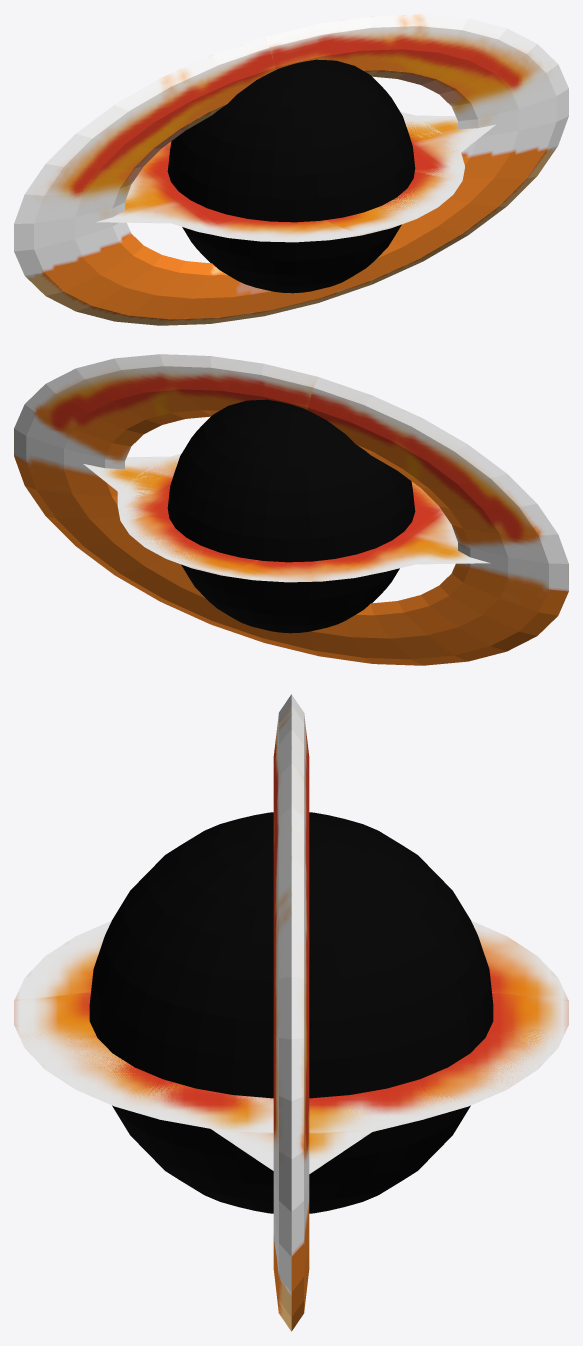
Rendered from black hole.fbx.
3 renders of one model, top to bottom at view 1: azimuth 30°, elevation 25°; view 2: azimuth 150°, elevation 25°; view 3: azimuth 270°, elevation 25°, orthographic. The views are drawn at different scales.
Parts seen in each view (by area): view 1: sphere; view 2: sphere; view 3: sphere.
Boxes of the visible parts, box(x1,y1,x2,y2) form: sphere: box(14, 14, 568, 325); sphere: box(14, 354, 568, 665); sphere: box(14, 694, 568, 1331).
Bounding box in the file's own units: 260 × 125 × 138.
3 materials, 3 textured.
